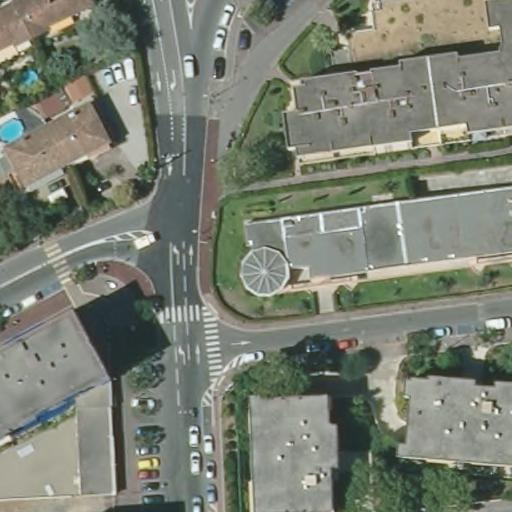pool: (10, 64, 44, 95), (0, 114, 28, 145)
